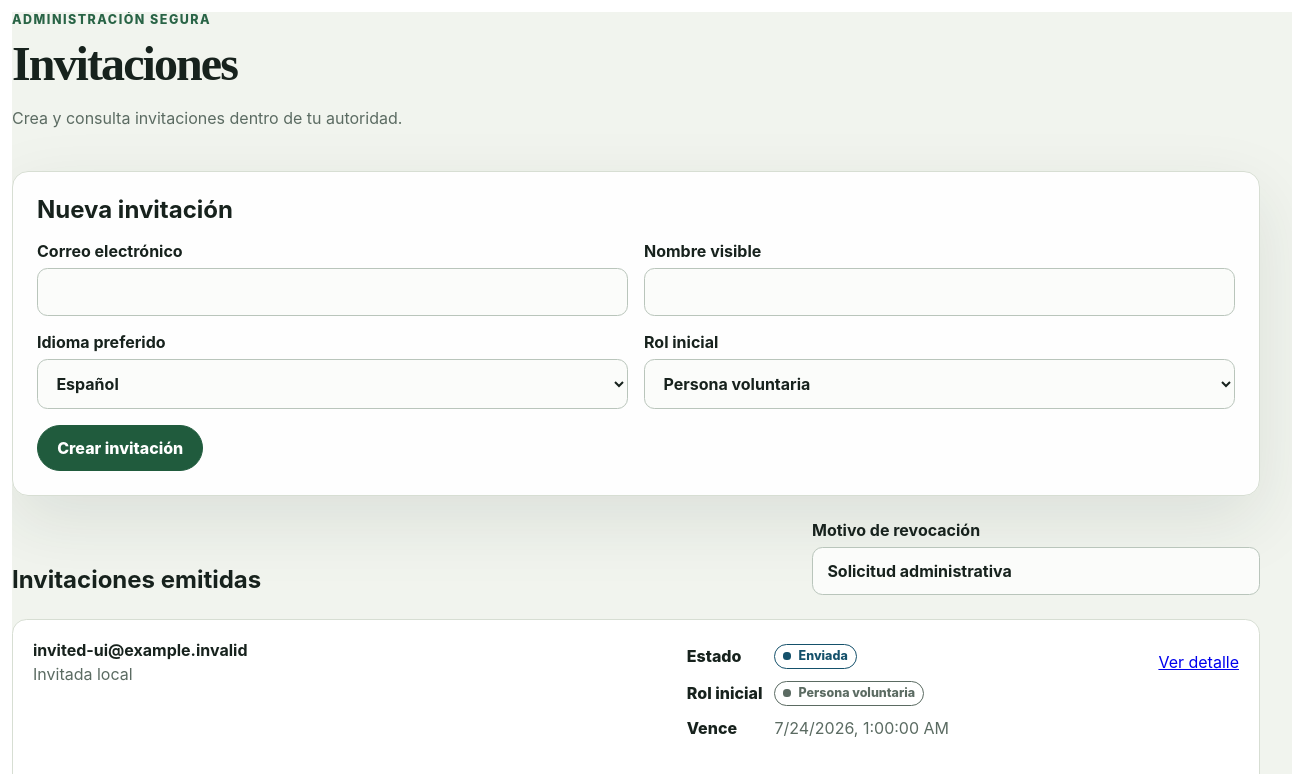
Test: InvitationsPage › creates a normalized invitation with an authorized role and locale
Expected: the text "invited-ui@example.invalid" is shown, left=33, top=640, right=248, bottom=660
In the field labelled "Correo electrónico": (332, 292) left=37, top=268, right=628, bottom=316, type "  NEW-USER@EXAMPLE.INVALID "
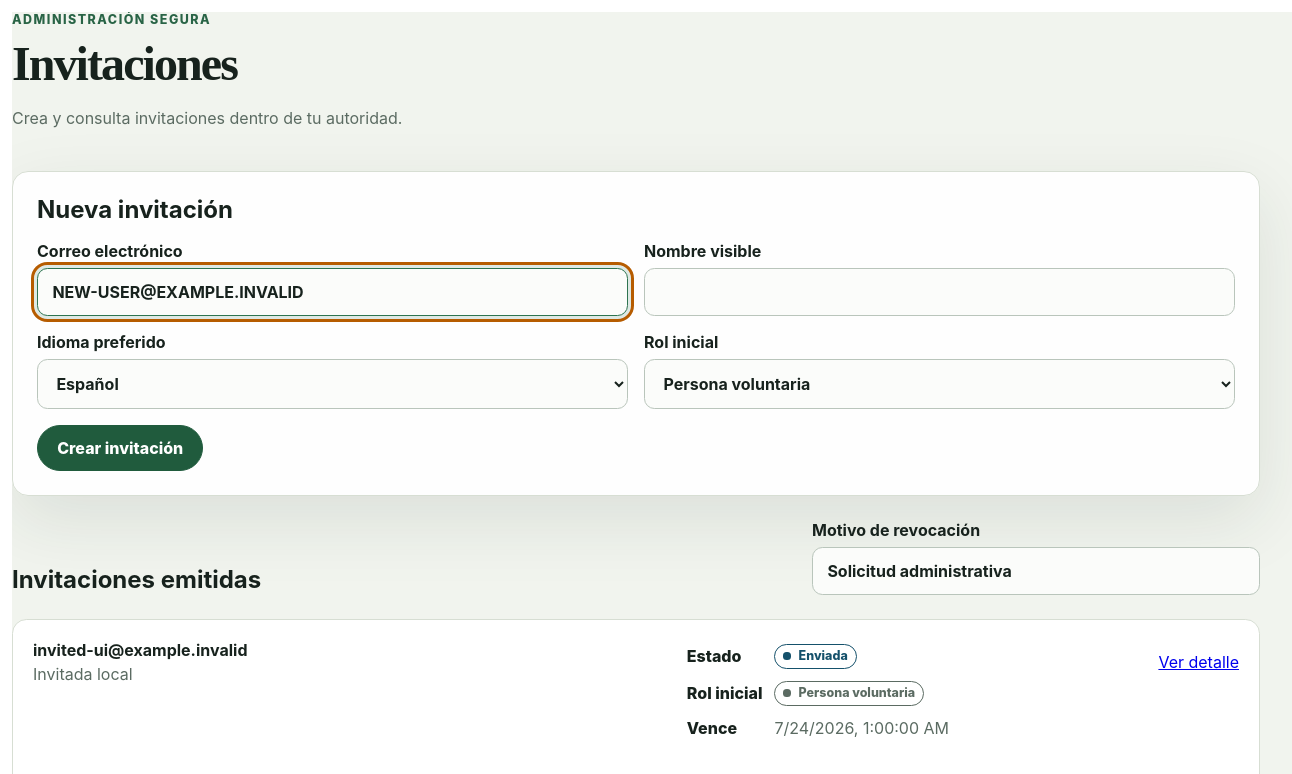
Select "English" in the dropdown labelled "Idioma preferido": (332, 384) left=37, top=359, right=628, bottom=409
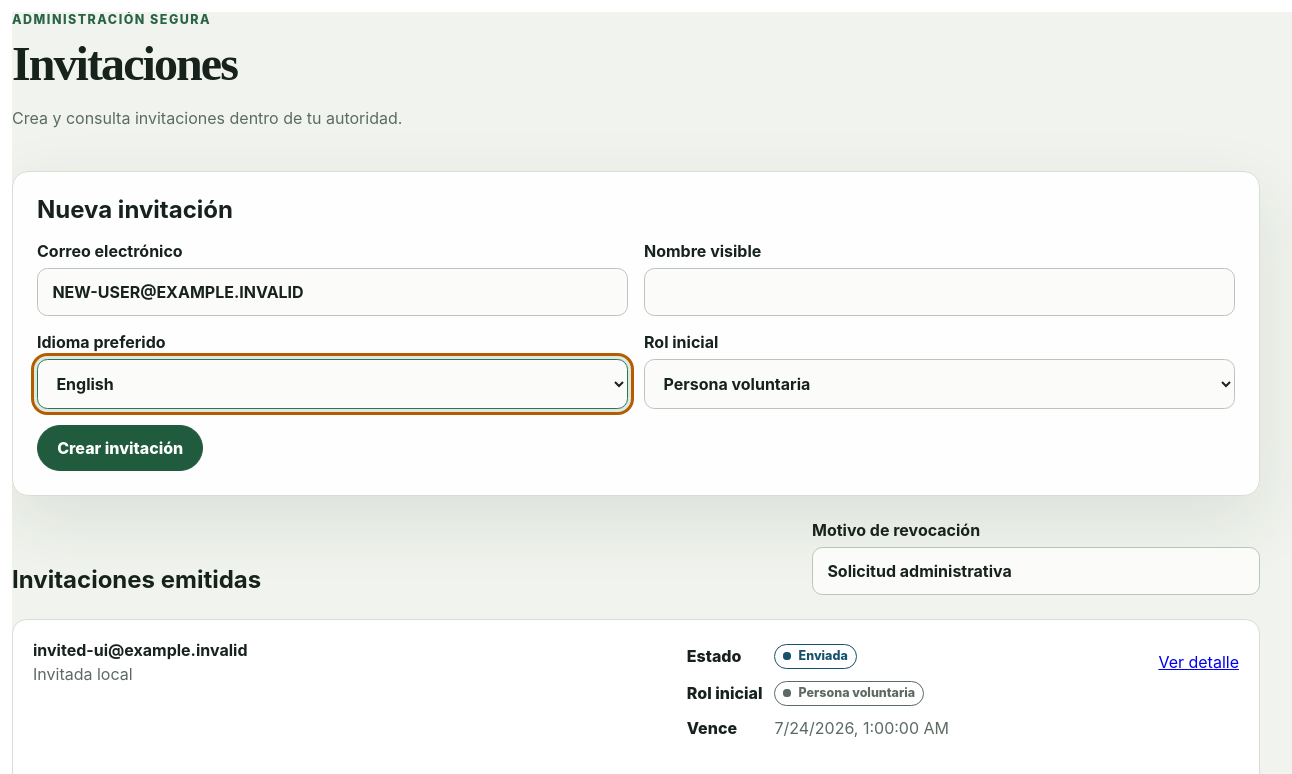
Select "Coordinación" in the dropdown labelled "Rol inicial": (940, 384) left=644, top=359, right=1235, bottom=409
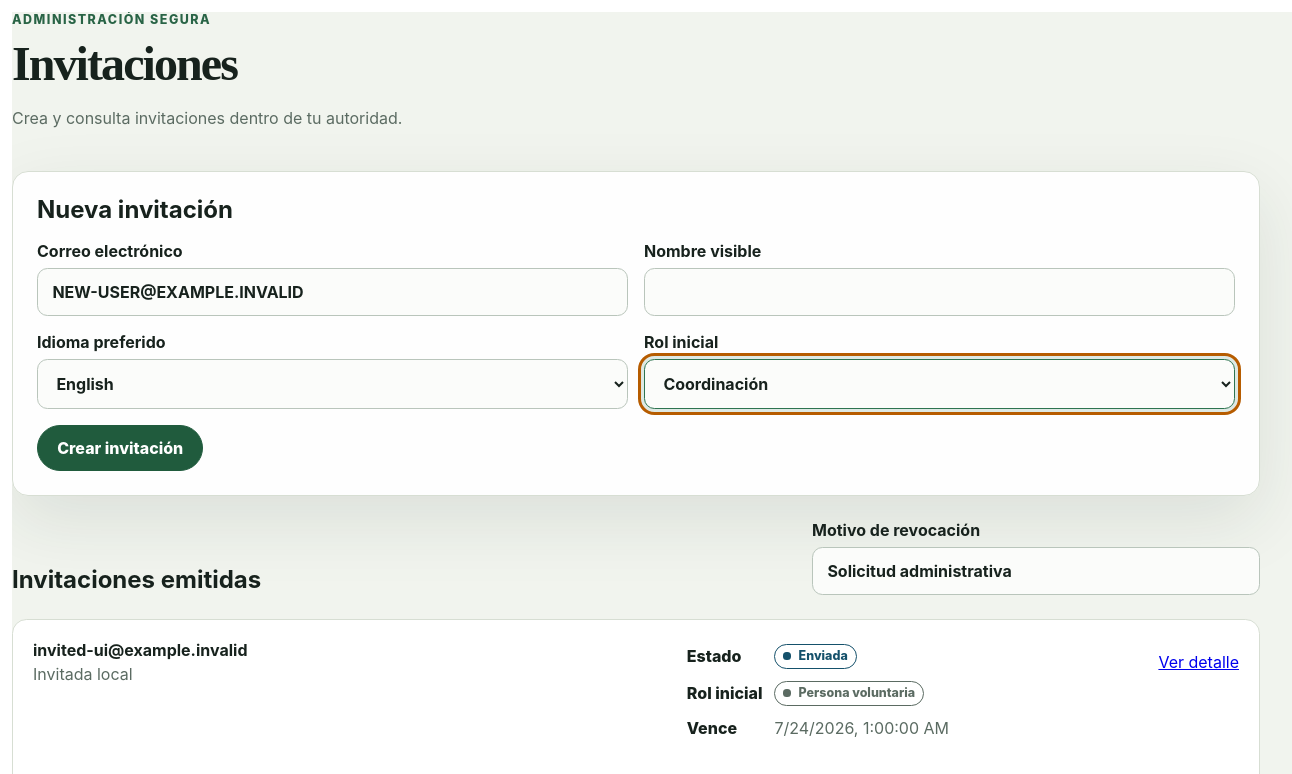
Click the button "Crear invitación": (120, 448) left=37, top=425, right=204, bottom=471
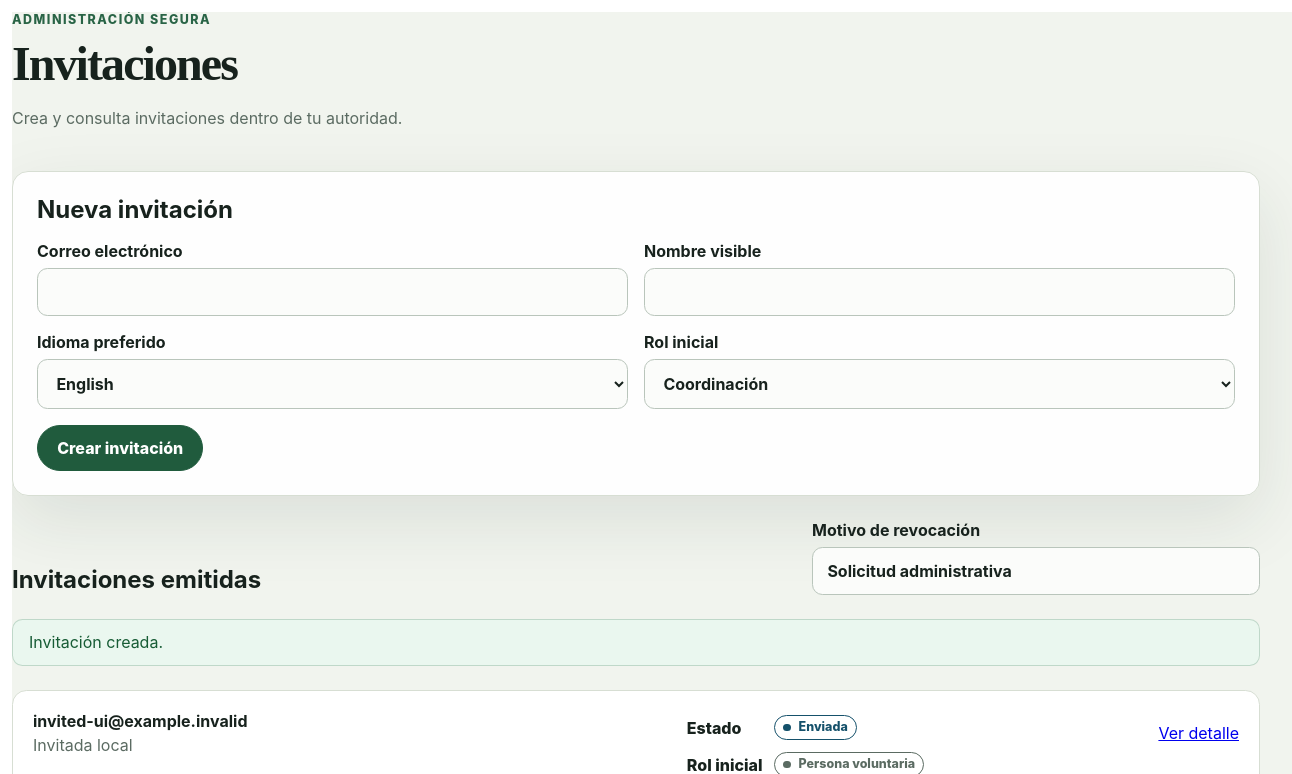
Result: the text "Invitación creada." is shown at left=12, top=619, right=1260, bottom=666
